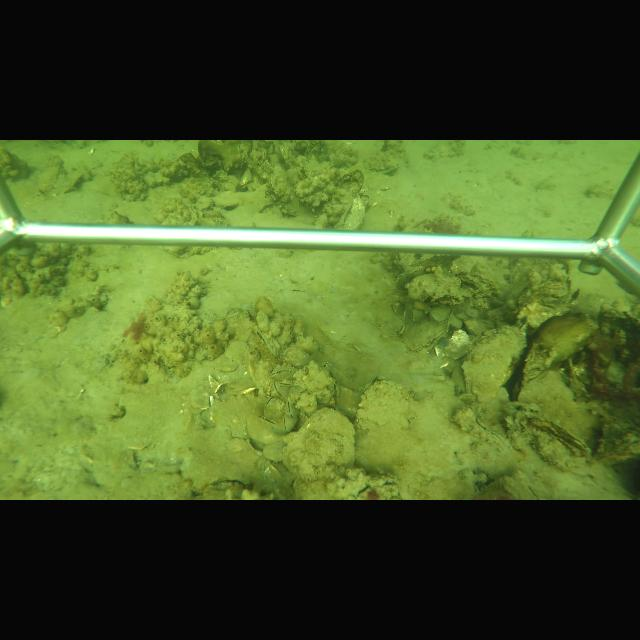Oyster-Closed: (512, 311, 598, 402), (279, 408, 356, 480), (354, 377, 412, 472), (460, 325, 527, 399), (406, 267, 472, 303), (407, 320, 448, 355), (333, 194, 363, 229), (364, 157, 401, 174), (260, 394, 284, 419), (268, 364, 298, 382), (256, 414, 284, 433), (268, 379, 290, 401), (427, 307, 450, 324), (280, 414, 298, 435), (282, 398, 297, 420), (408, 265, 425, 278), (410, 308, 424, 322)
Oyster-Open: (524, 417, 590, 457), (194, 472, 248, 495)
